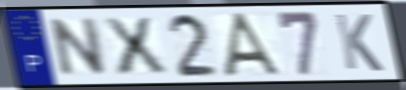2: (167, 10, 220, 79)
7: (274, 9, 322, 78)
A: (220, 10, 288, 78)
K: (332, 12, 387, 74)
N: (48, 15, 109, 79)
X: (99, 15, 171, 78)
